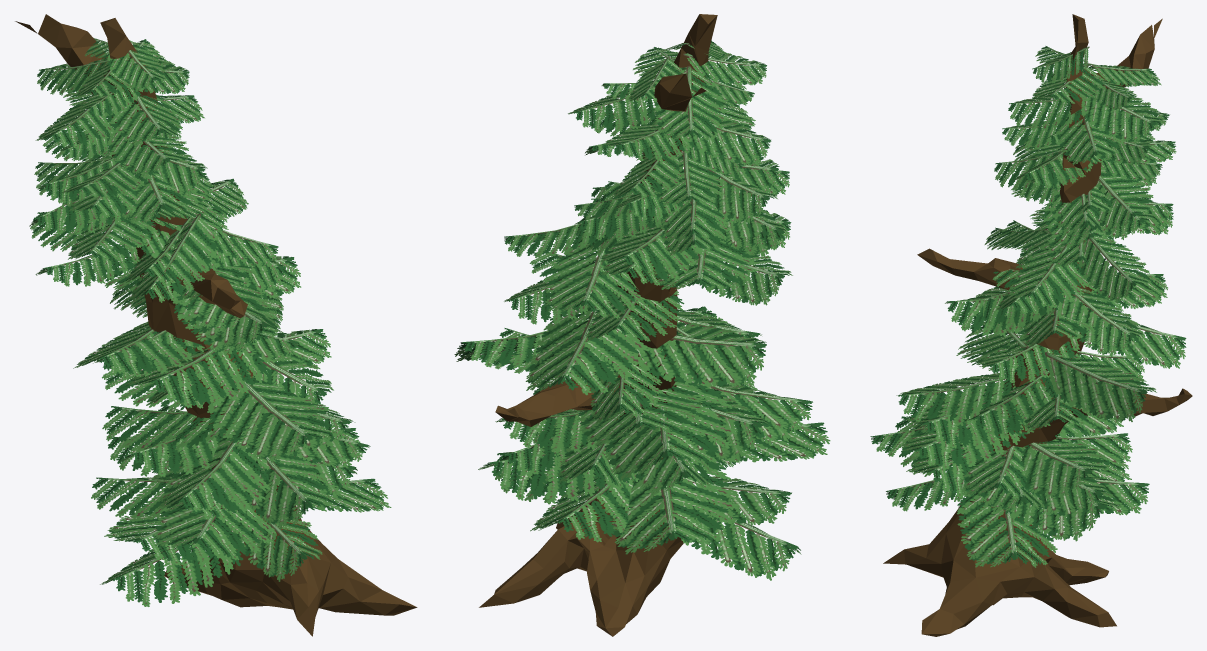
The model's file is broken_pine1.fbx.
3 renders of one model, left to right at view 1: azimuth 30°, elevation 25°; view 2: azimuth 150°, elevation 25°; view 3: azimuth 270°, elevation 25°, orthographic. The views are drawn at different scales.
Visible parts, largest first — view 1: Cube, Pine.020, Pine.029, Pine.005, Pine.006, Pine.004, Pine.015, Pine.179, Pine.021, Pine.030, Pine.012, Pine.013 (+48 smaller); view 2: Cube, Pine.007, Pine.024, Pine.030, Pine.015, Pine.032, Pine.006, Pine.031, Pine, Pine.001, Pine.225, Pine.193 (+40 smaller); view 3: Cube, Pine.025, Pine.002, Pine.017, Pine.020, Pine.033, Pine.195, Pine.205, Pine.027, Pine.001, Pine.003, Pine.219 (+48 smaller).
Boxes of the visible parts, bbox=[...] form: Cube: bbox=[15, 14, 417, 636]; Pine.020: bbox=[207, 375, 336, 462]; Pine.029: bbox=[125, 332, 272, 407]; Pine.005: bbox=[153, 478, 279, 560]; Pine.006: bbox=[100, 520, 243, 606]; Pine.004: bbox=[221, 444, 331, 529]; Pine.015: bbox=[102, 406, 223, 451]; Pine.179: bbox=[130, 213, 219, 302]; Pine.021: bbox=[157, 429, 279, 519]; Pine.030: bbox=[73, 321, 204, 376]; Pine.012: bbox=[221, 500, 322, 581]; Pine.013: bbox=[159, 442, 262, 511]; Cube: bbox=[479, 14, 751, 636]; Pine.007: bbox=[604, 448, 739, 554]; Pine.024: bbox=[525, 288, 649, 395]; Pine.030: bbox=[632, 322, 766, 386]; Pine.015: bbox=[601, 374, 737, 480]; Pine.032: bbox=[545, 240, 645, 318]; Pine.006: bbox=[660, 504, 801, 580]; Pine.031: bbox=[577, 376, 707, 446]; Pine: bbox=[530, 464, 674, 542]; Pine.001: bbox=[478, 444, 627, 503]; Pine.225: bbox=[653, 65, 727, 140]; Pine.193: bbox=[654, 230, 757, 290]; Cube: bbox=[883, 14, 1192, 636]; Pine.025: bbox=[1045, 352, 1156, 422]; Pine.002: bbox=[957, 490, 1060, 567]; Pine.017: bbox=[1001, 435, 1109, 498]; Pine.020: bbox=[896, 373, 1020, 425]; Pine.033: bbox=[1057, 286, 1143, 357]; Pine.195: bbox=[1079, 235, 1150, 303]; Pine.205: bbox=[1008, 239, 1095, 307]; Pine.027: bbox=[964, 364, 1079, 437]; Pine.001: bbox=[1002, 470, 1121, 541]; Pine.003: bbox=[899, 415, 1027, 469]; Pine.219: bbox=[1081, 83, 1163, 143].
Bounding box in the file's own units: 358 × 646 × 359.
2 materials, 1 textured.
